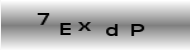7.: (37, 11, 49, 25)
E: (58, 22, 72, 35)
P: (129, 23, 145, 36)
d: (104, 23, 118, 37)
x: (78, 21, 92, 32)
